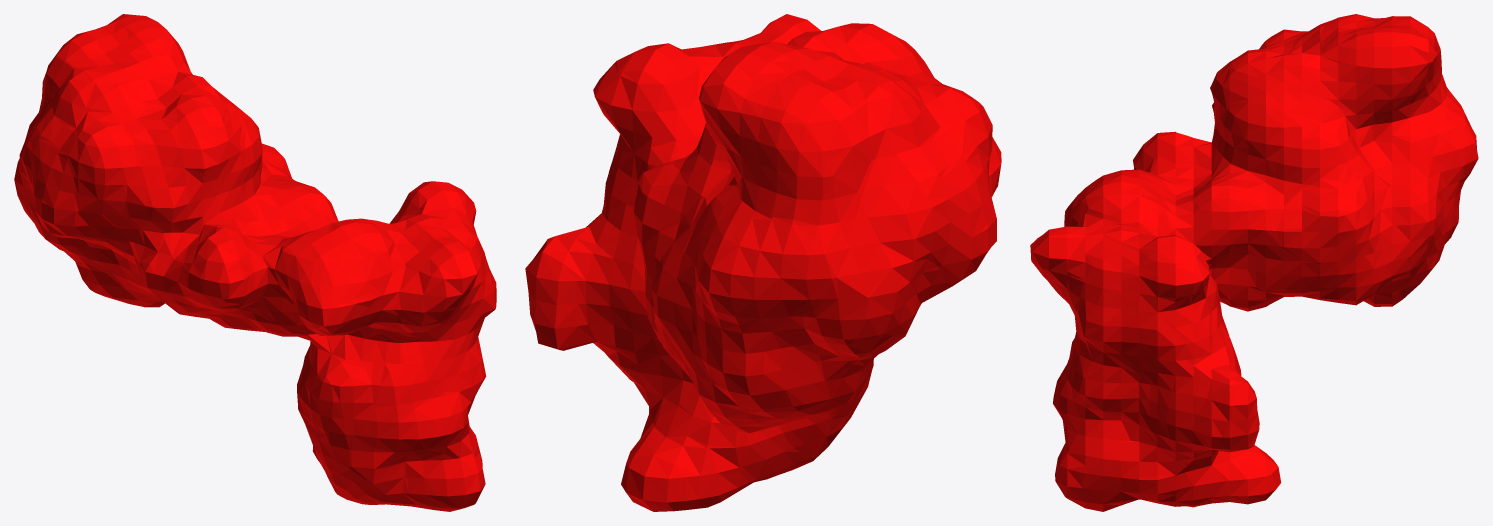
The model's file is leuA_coarse.dae.
3 views of the same model, side by side, from view 1: azimuth 30°, elevation 25°; view 2: azimuth 150°, elevation 25°; view 3: azimuth 270°, elevation 25° (orthographic). The views are drawn at different scales.
Parts seen in each view (by area): view 1: leuA; view 2: leuA; view 3: leuA.
Boxes of the visible parts, box(x1,y1,x2,y2) form: leuA: box(14, 14, 496, 511); leuA: box(525, 14, 1001, 511); leuA: box(1030, 14, 1478, 511).
Size of the model in its own units: 74.99 by 79.47 by 79.76.
